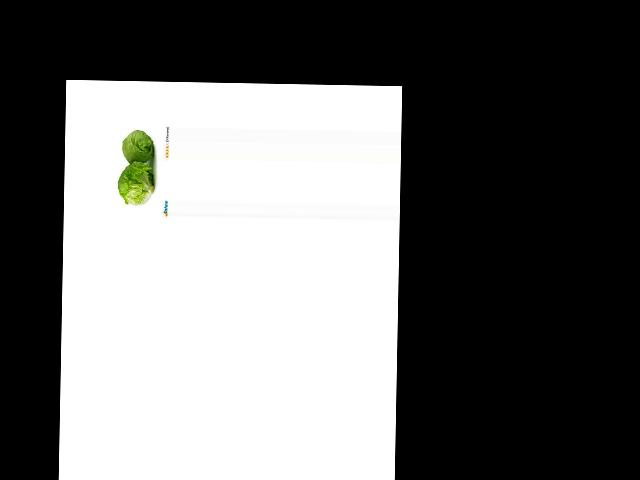lettuce: (121, 128, 161, 174)
